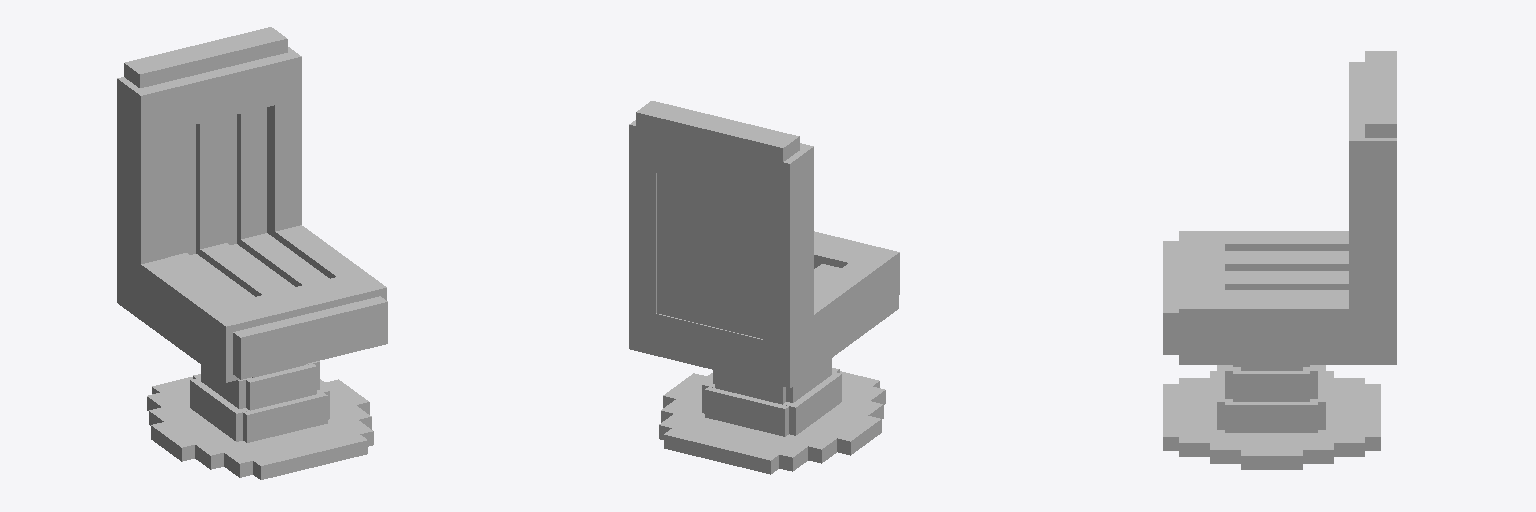
The model's file is copperchair.obj.
3 renders of one model, left to right at view 1: azimuth 30°, elevation 25°; view 2: azimuth 150°, elevation 25°; view 3: azimuth 270°, elevation 25°, orthographic.
Parts seen in each view (by area): view 1: CopperChair_CopperChair001; view 2: CopperChair_CopperChair001; view 3: CopperChair_CopperChair001.
Part boxes in pixels (left/top/right/bottom): CopperChair_CopperChair001: left=117, top=27, right=387, bottom=479; CopperChair_CopperChair001: left=629, top=101, right=899, bottom=474; CopperChair_CopperChair001: left=1163, top=51, right=1396, bottom=469.
Size of the model in its own units: 1.73 by 2.97 by 1.87.